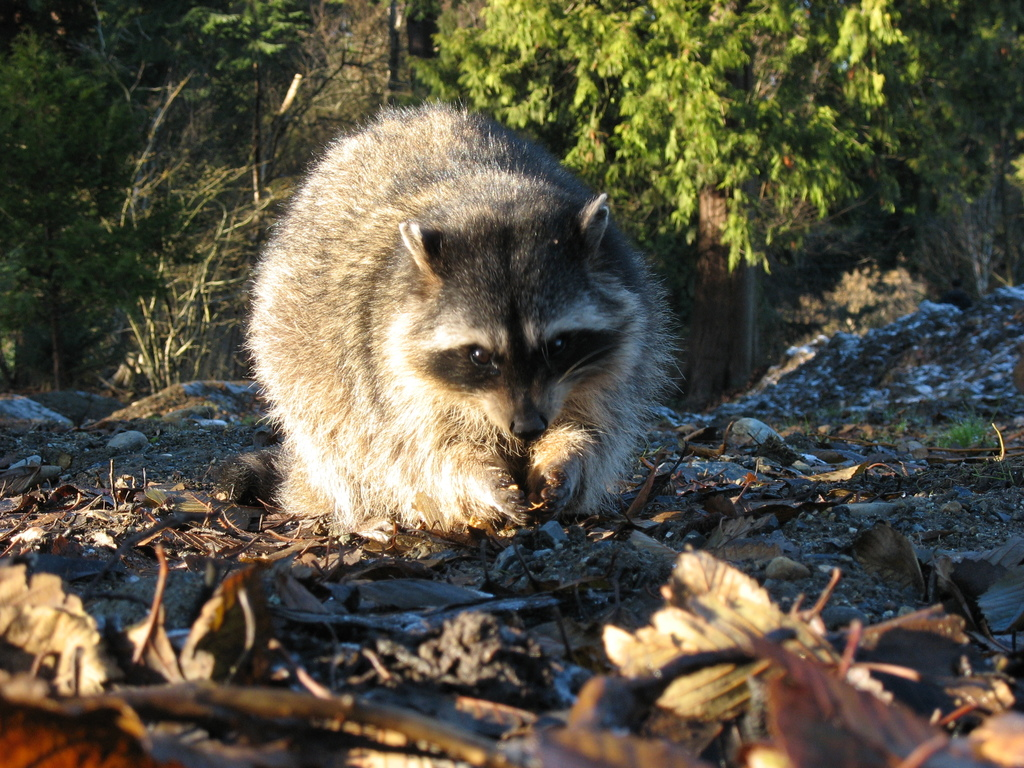raccoon: (243, 106, 677, 526)
